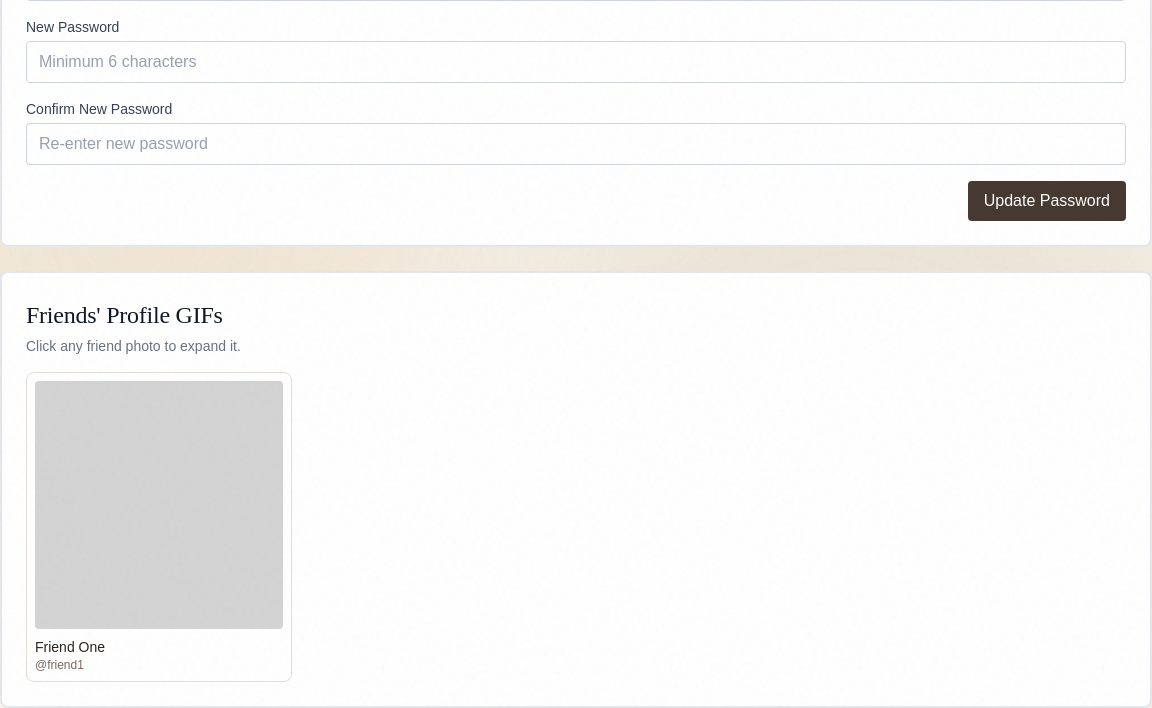
Test: Student Settings avatar URL › shows friend profile GIFs and expands when clicked
(page scrolled)
Expected: the heading "Friends' Profile GIFs" is shown, [26,297,241,334]
Click the button "Friend One @friend1".
click(159, 527)  # box [26,372,292,682]
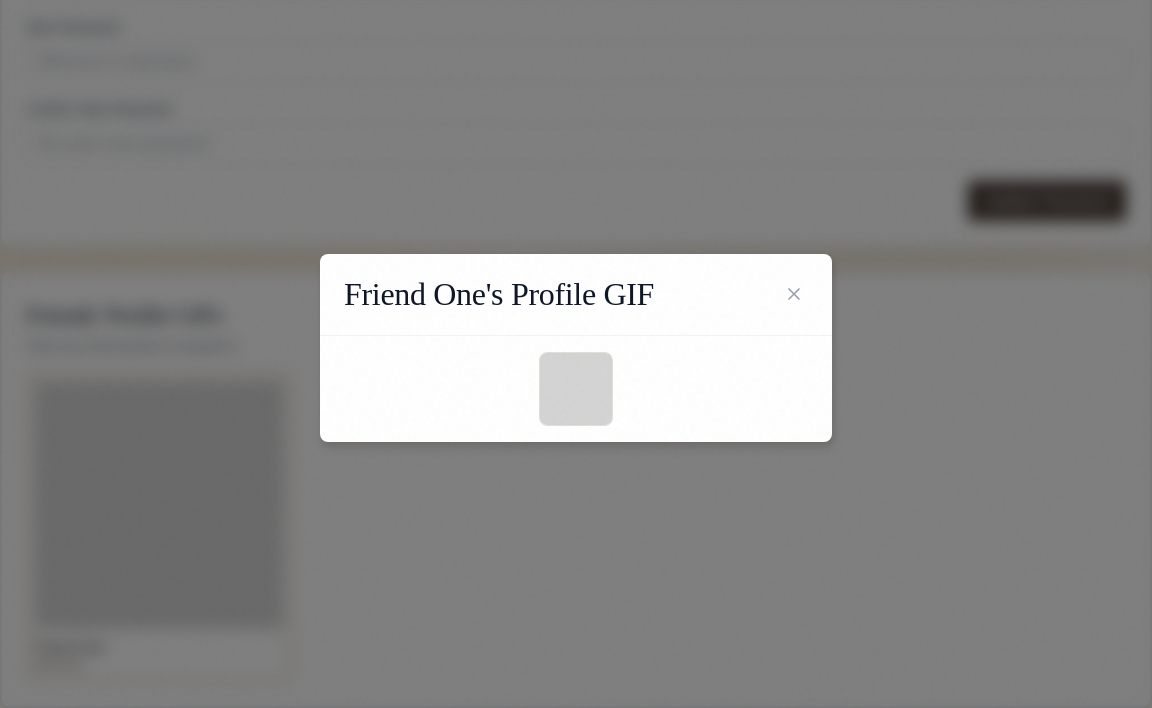
Expected: the heading "Friend One's Profile GIF" is shown, [344,270,654,319]
